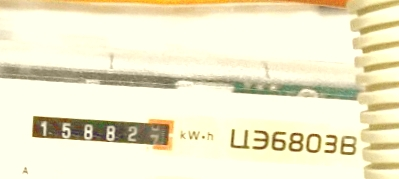1: (38, 119, 50, 138)
2: (126, 124, 138, 142)
5: (59, 121, 72, 139)
7: (148, 132, 160, 146)
8: (82, 122, 94, 140), (105, 124, 116, 141)
screen: (23, 104, 181, 156)
